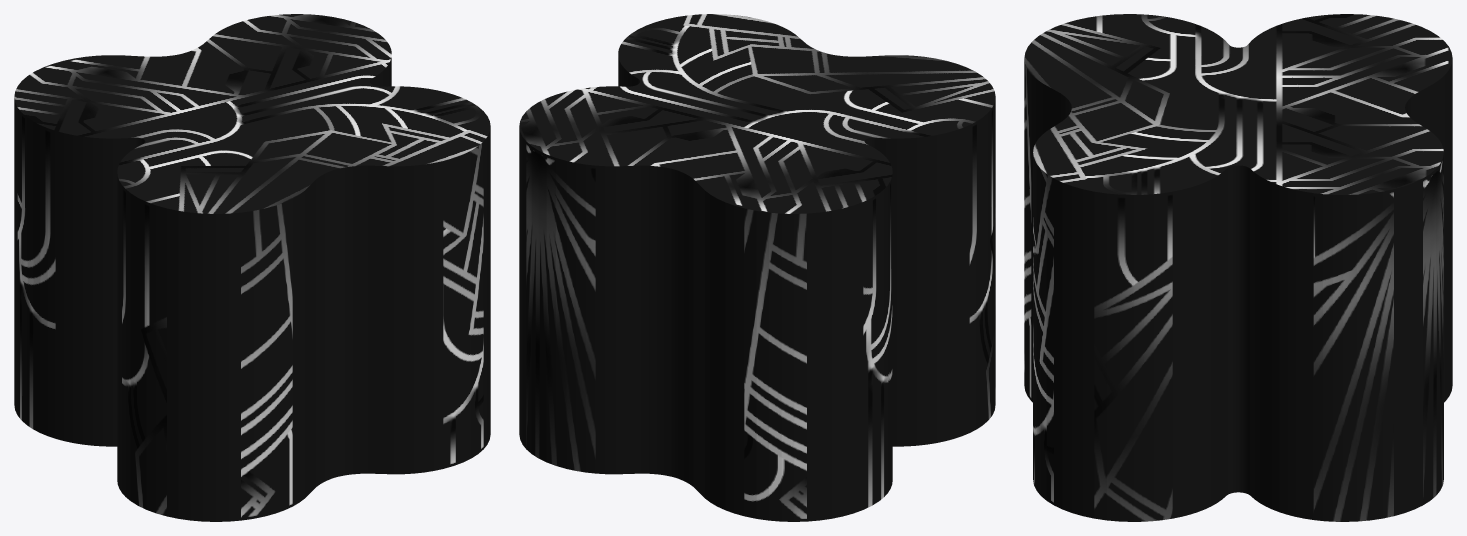
File: Maison4.glb
3 views of the same model, side by side, from view 1: azimuth 30°, elevation 25°; view 2: azimuth 150°, elevation 25°; view 3: azimuth 270°, elevation 25° (orthographic). The views are drawn at different scales.
Visible parts, largest first — view 1: BAT4; view 2: BAT4; view 3: BAT4.
Boxes of the visible parts, bbox=[...] form: BAT4: bbox=[14, 14, 490, 521]; BAT4: bbox=[519, 14, 995, 521]; BAT4: bbox=[1024, 14, 1452, 521].
Size of the model in its own units: 0.4329 by 0.3645 by 0.4328.
Materials: 2 (1 with a texture image).
